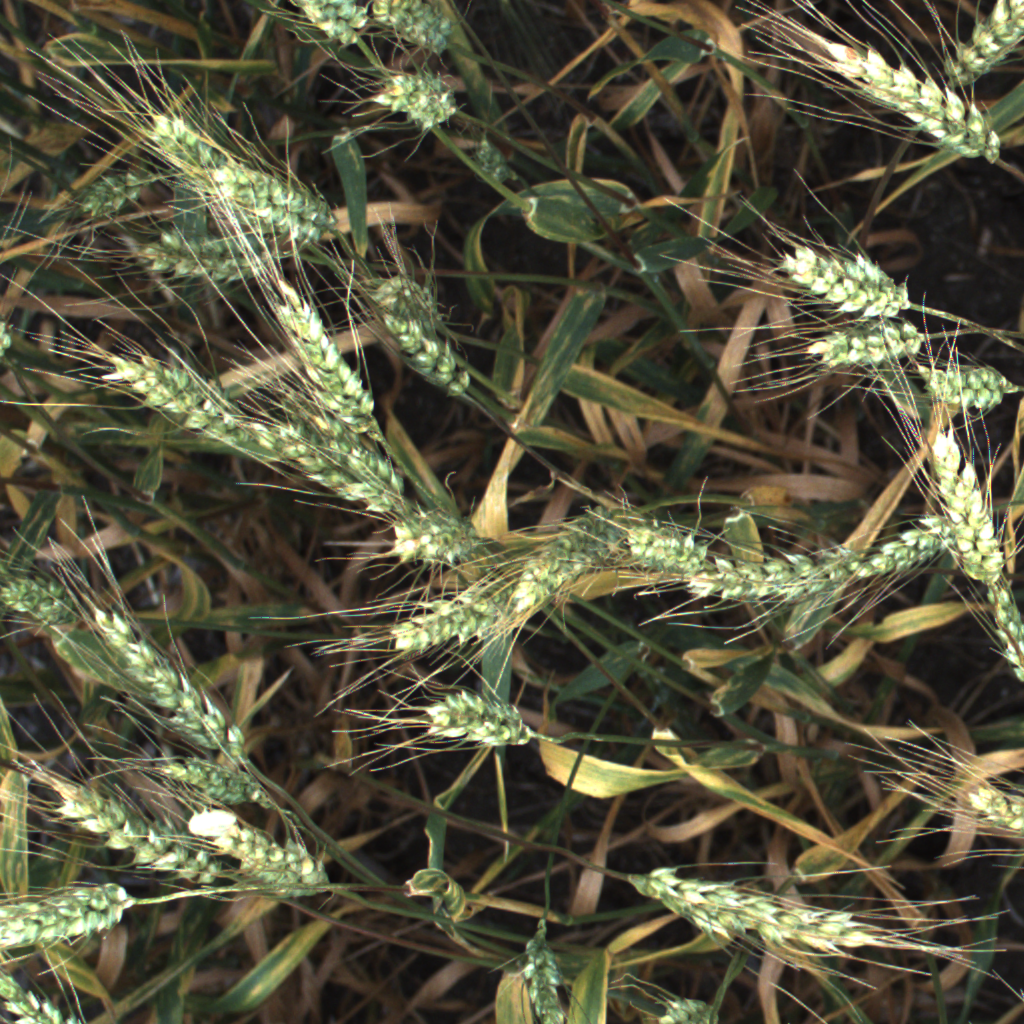wheat_head: (72, 591, 264, 778), (815, 23, 1022, 167), (633, 852, 898, 963), (29, 762, 241, 891), (261, 271, 400, 463), (488, 493, 660, 629), (93, 345, 269, 460), (913, 421, 1019, 601), (185, 148, 354, 260), (182, 801, 350, 908), (764, 232, 931, 338), (397, 673, 578, 756), (380, 568, 535, 658), (680, 542, 853, 616), (367, 293, 480, 403), (134, 219, 291, 295), (0, 872, 138, 953), (285, 435, 401, 531), (798, 309, 938, 382), (849, 505, 969, 588), (380, 499, 486, 588), (902, 346, 1015, 426), (131, 751, 271, 813), (363, 65, 475, 140), (511, 904, 579, 1024), (606, 510, 719, 580), (939, 0, 1024, 89), (0, 556, 91, 637), (353, 0, 482, 54), (967, 578, 1024, 692), (137, 97, 225, 167), (949, 778, 1024, 857), (67, 161, 153, 227), (0, 966, 96, 1024), (279, 0, 373, 50), (631, 986, 740, 1024)
